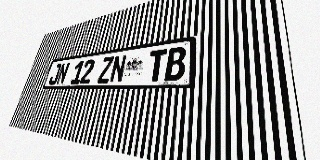1: (70, 60, 85, 84)
2: (79, 59, 95, 84)
B: (164, 46, 186, 81)
J: (48, 63, 62, 85)
N: (109, 54, 127, 83), (55, 62, 70, 85)
T: (146, 49, 167, 82)
Z: (97, 56, 114, 83)
